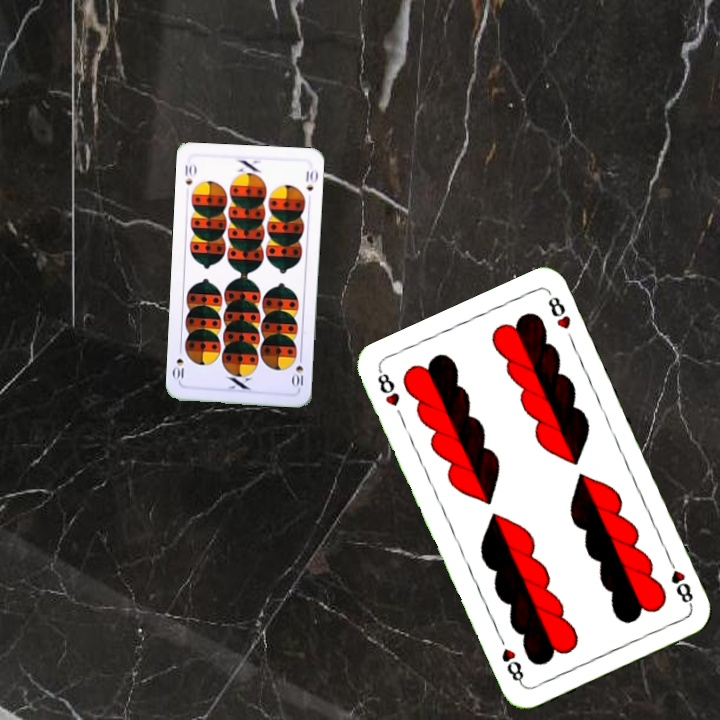H8: (663, 554, 696, 609), (373, 366, 402, 409)
S10: (289, 351, 306, 390), (181, 160, 199, 187)
